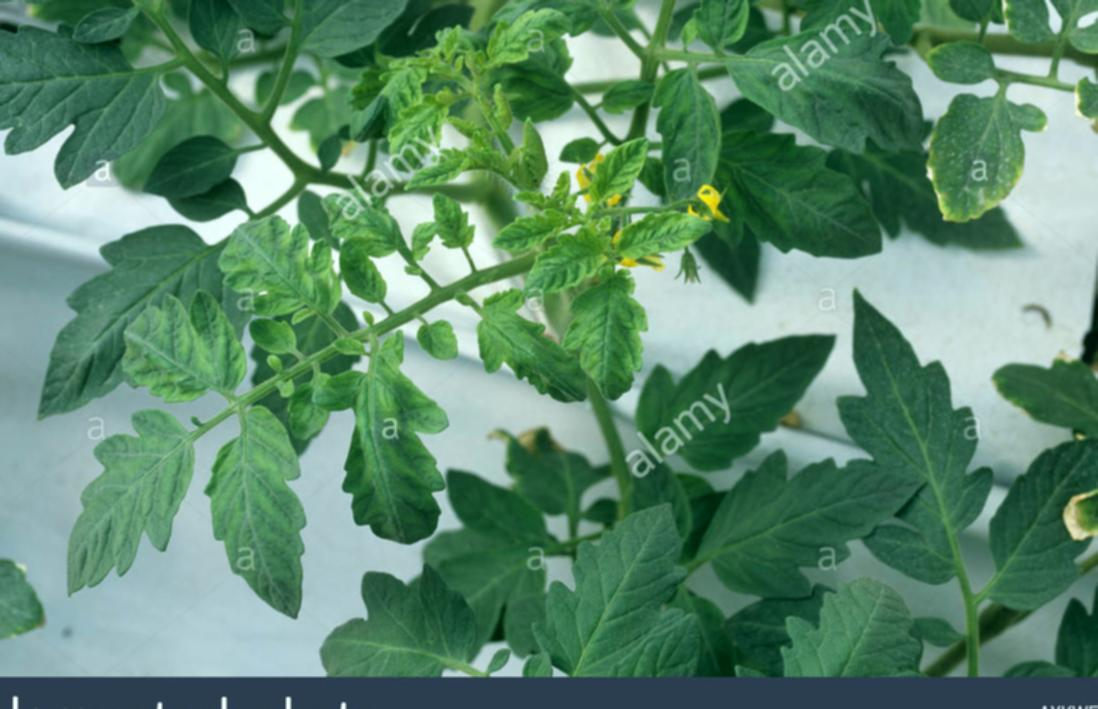Tomato leaf yellow virus: (566, 266, 656, 403), (520, 232, 627, 306), (593, 205, 721, 261)
